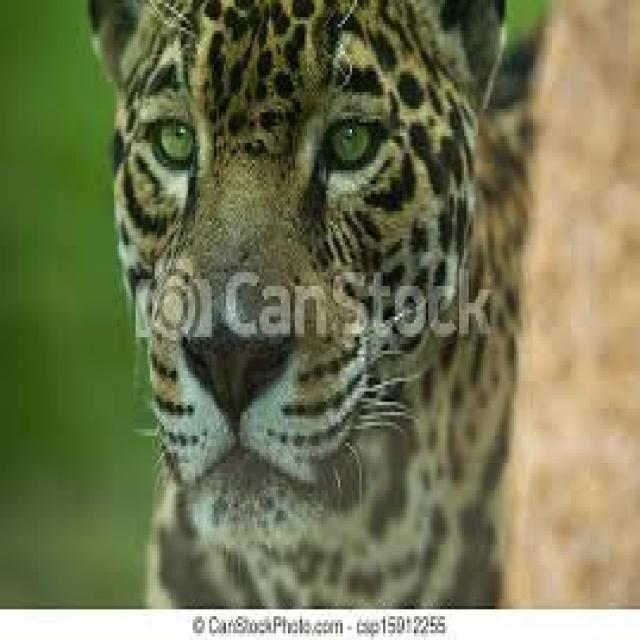Jaguar: (78, 0, 504, 606)
